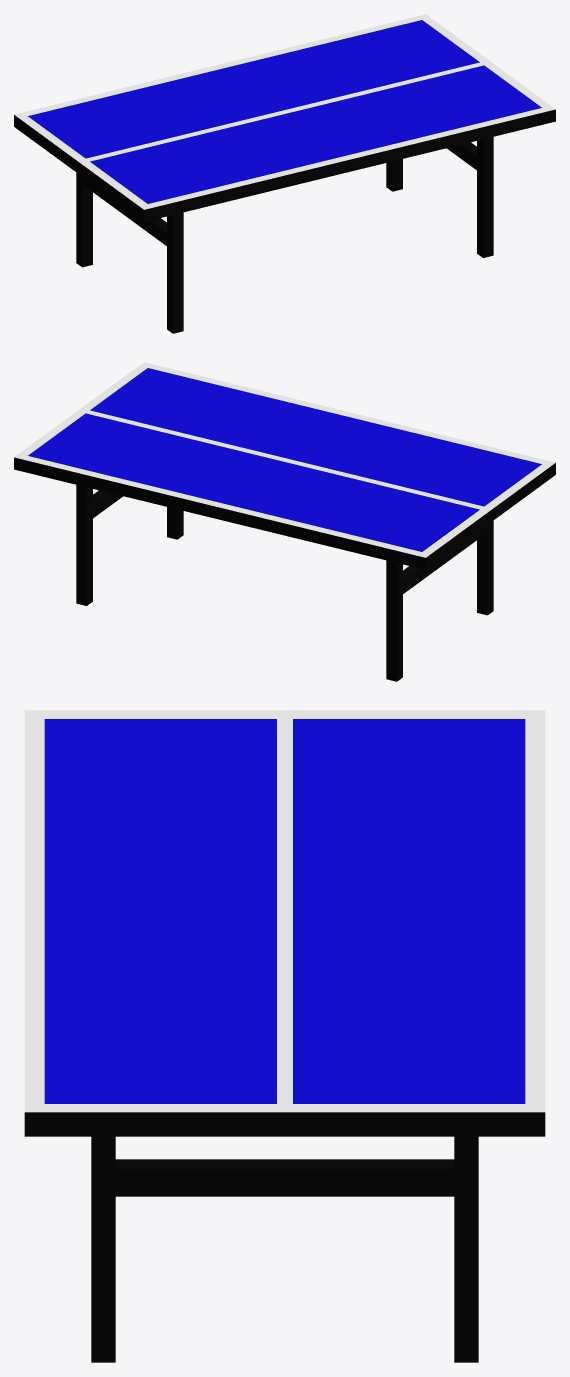
The model's file is mesaPingPong.fbx.
The picture shows the model from 3 angles, top to bottom: view 1: azimuth 30°, elevation 25°; view 2: azimuth 150°, elevation 25°; view 3: azimuth 270°, elevation 25°; orthographic projection. The views are drawn at different scales.
Visible parts, largest first — view 1: Mesa De Ping Pong; view 2: Mesa De Ping Pong; view 3: Mesa De Ping Pong.
Part boxes in pixels (x1,y1,x2,y2): Mesa De Ping Pong: [14, 14, 555, 333]; Mesa De Ping Pong: [14, 362, 555, 681]; Mesa De Ping Pong: [24, 710, 545, 1362].
Size of the model in its own units: 707 by 242 by 387.
